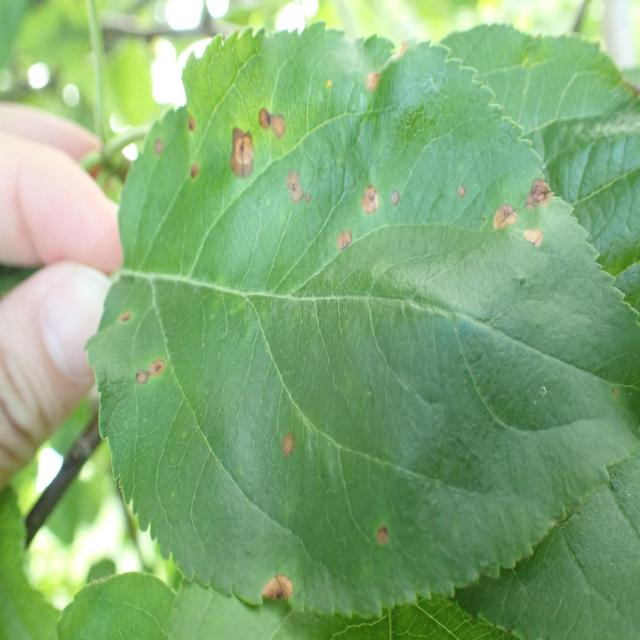frog-eye-leaf-spot: (83, 23, 640, 620)
